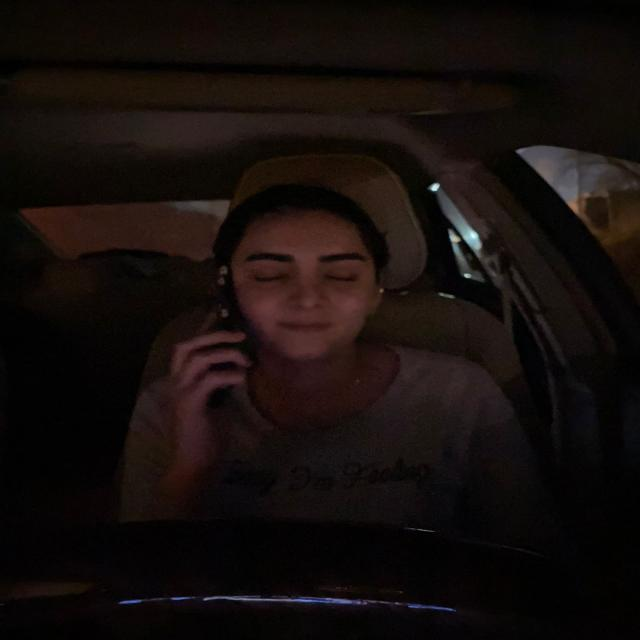mobile: (205, 260, 247, 412)
person: (222, 180, 393, 364)
